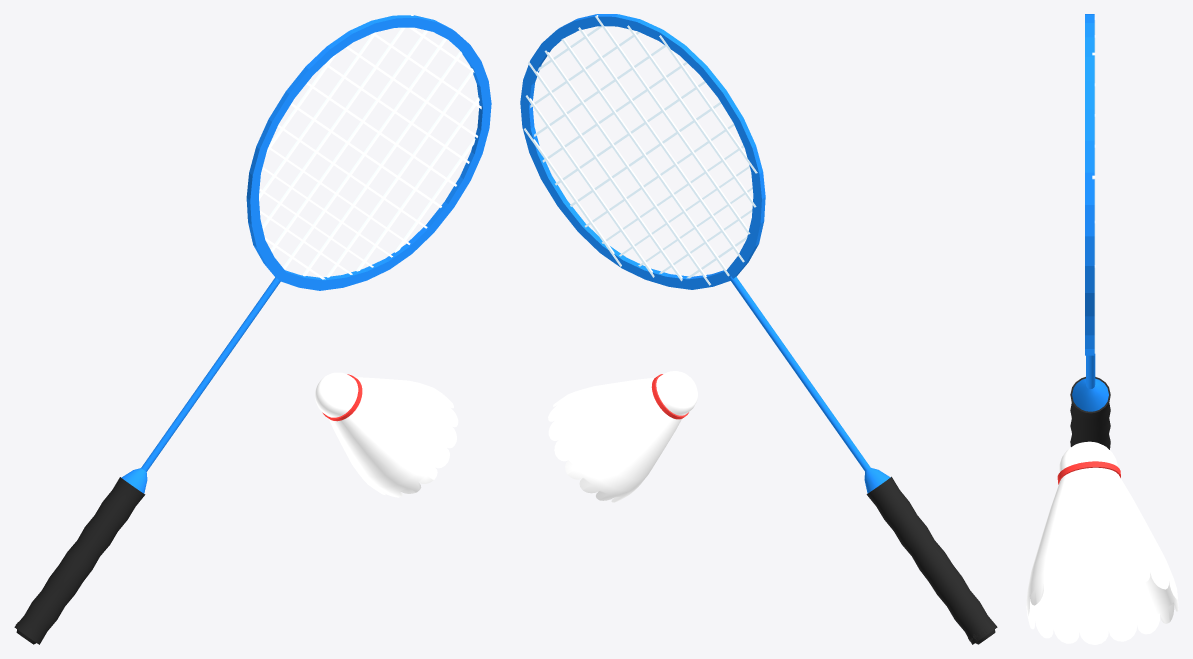
Rendered from badminton.gltf.
The picture shows the model from 3 angles, left to right: view 1: azimuth 30°, elevation 25°; view 2: azimuth 150°, elevation 25°; view 3: azimuth 270°, elevation 25°; orthographic projection. The views are drawn at different scales.
Parts seen in each view (by area): view 1: Cube.824; view 2: Cube.824; view 3: Cube.824.
Part boxes in pixels (<box>): Cube.824: <box>14,14,491,644</box>; Cube.824: <box>520,14,997,644</box>; Cube.824: <box>1026,14,1178,644</box>.
Bounding box in the file's own units: 2.03 × 2.21 × 0.4377.
1 material, 1 textured.
